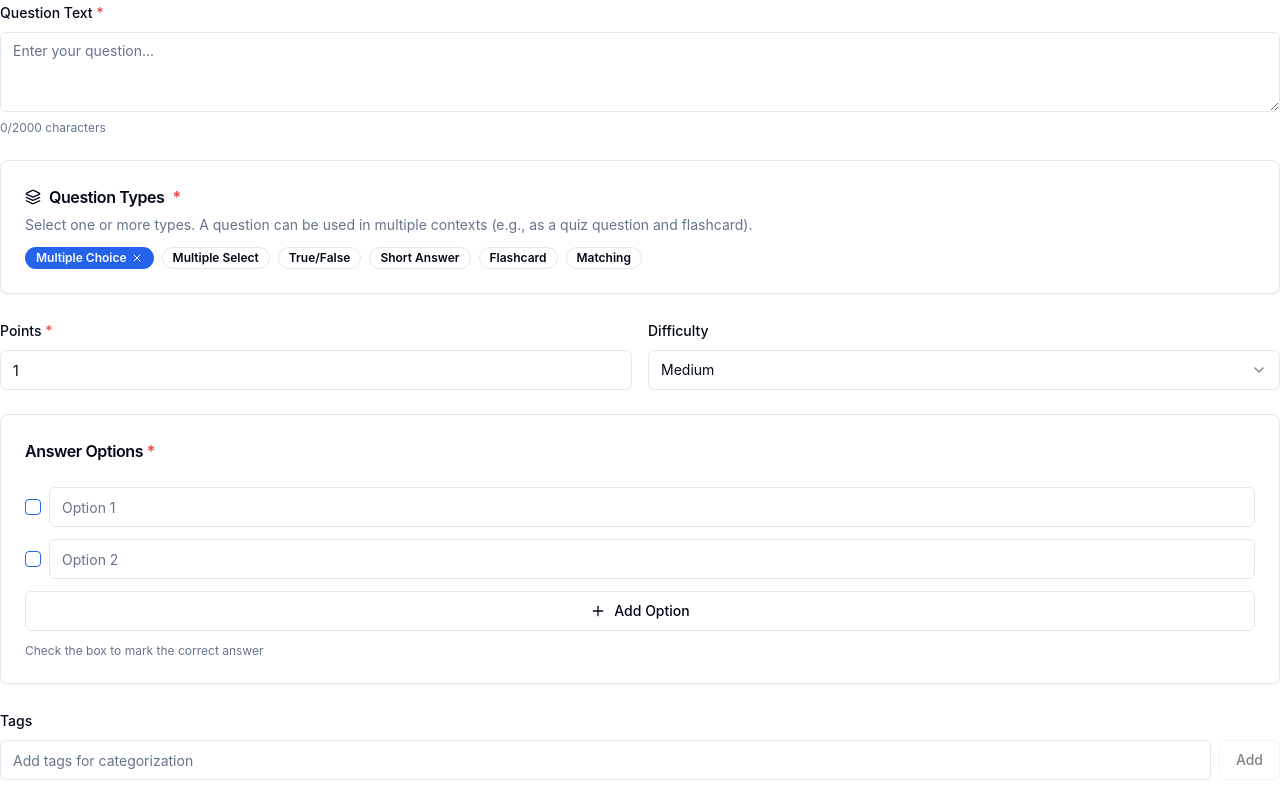
Scenario: QuestionForm › Question Type Selection › should allow selecting multiple question types
// Multiple choice is selected by default, add flashcard
Click the text "Flashcard": (518, 258) [478,247,558,269]
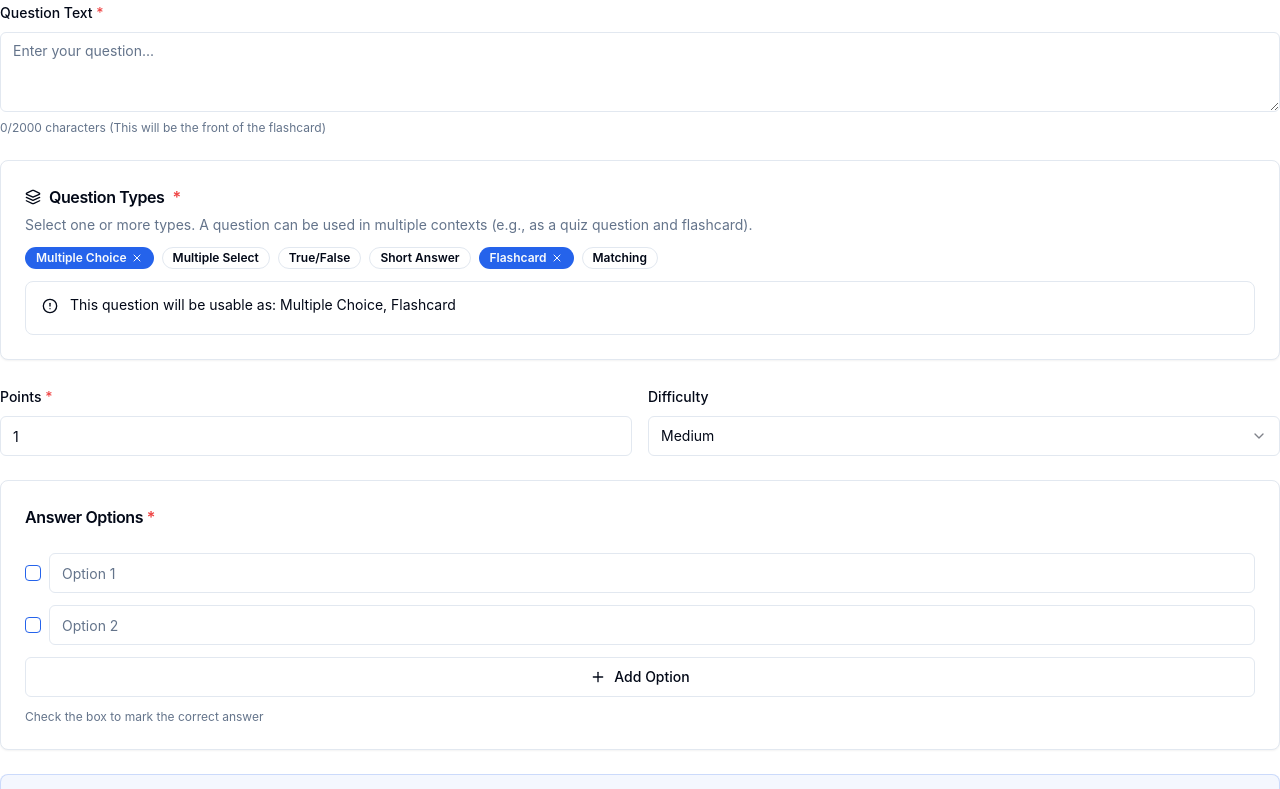
Check: the heading "Answer Options *" is shown, box [25,507,155,527]
Check: the text "0/2000 characters (This will be the front of the flashcard)" is shown, box [0,120,326,135]
